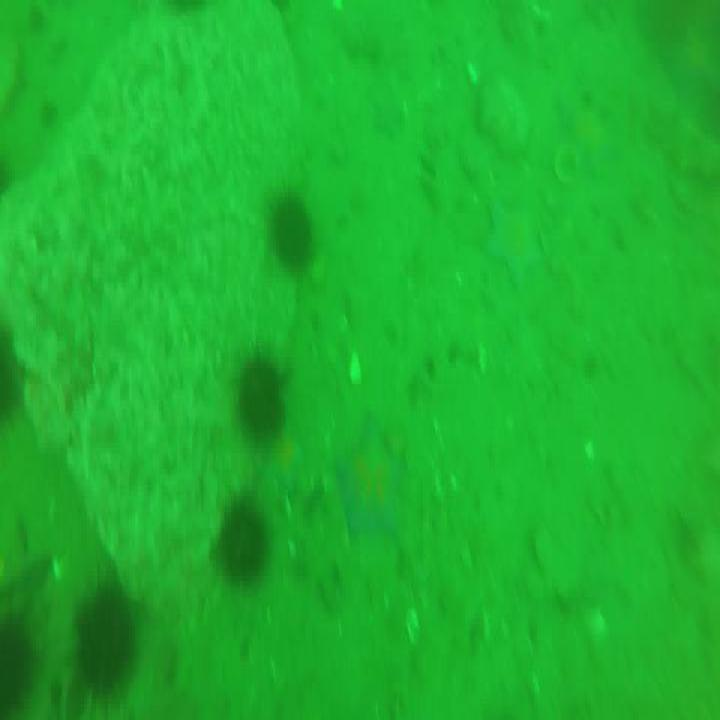echinus: (71, 567, 134, 692), (212, 492, 268, 585), (236, 345, 287, 443), (0, 599, 36, 720), (265, 187, 313, 270), (1, 313, 24, 419)
scallop: (554, 146, 582, 187), (585, 608, 609, 640)
starfish: (331, 421, 406, 539), (483, 203, 541, 286)
